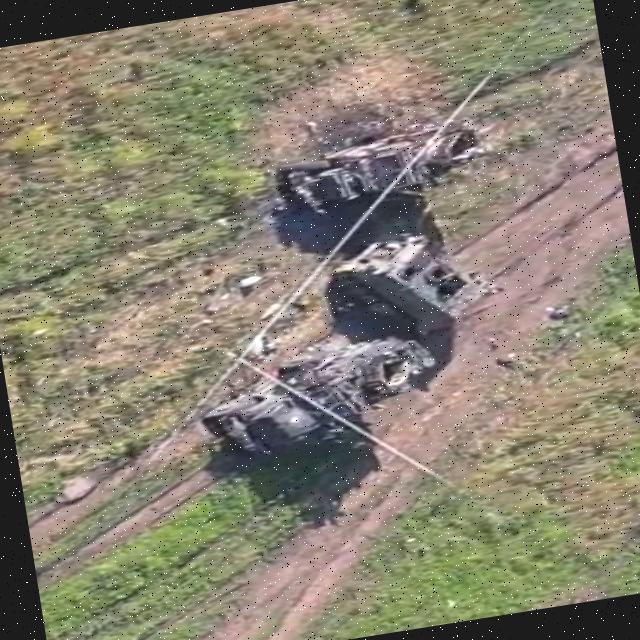APC: (339, 224, 502, 344)
Destroyed: (269, 109, 491, 213)
Vehicle: (196, 329, 445, 470)
